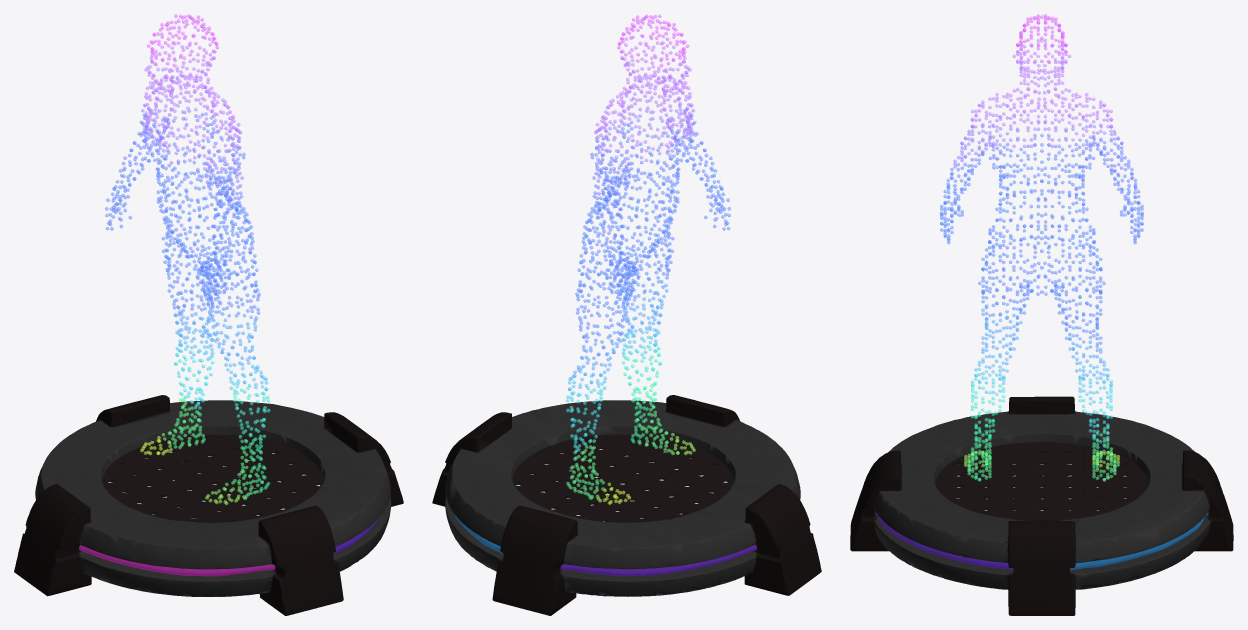
Rendered from holographic_module.glb.
The picture shows the model from 3 angles, left to right: view 1: azimuth 30°, elevation 25°; view 2: azimuth 150°, elevation 25°; view 3: azimuth 270°, elevation 25°; orthographic projection. The views are drawn at different scales.
Visible parts, largest first — view 1: Object_3, Object_5, Object_4, Object_2; view 2: Object_3, Object_5, Object_4, Object_2; view 3: Object_3, Object_5, Object_4, Object_2.
Boxes of the visible parts, left/top/right/bottom form: Object_3: left=14, top=395, right=403, bottom=615; Object_5: left=105, top=14, right=270, bottom=504; Object_4: left=102, top=434, right=323, bottom=522; Object_2: left=79, top=451, right=380, bottom=576; Object_3: left=432, top=395, right=821, bottom=615; Object_5: left=566, top=14, right=730, bottom=504; Object_4: left=512, top=434, right=733, bottom=522; Object_2: left=454, top=449, right=756, bottom=576; Object_3: left=850, top=396, right=1233, bottom=615; Object_5: left=940, top=14, right=1143, bottom=481; Object_4: left=935, top=442, right=1148, bottom=520; Object_2: left=875, top=464, right=1208, bottom=570.
Bounding box in the file's own units: 0.4051 × 0.5814 × 0.3911.
Materials: 4 (4 with a texture image).
